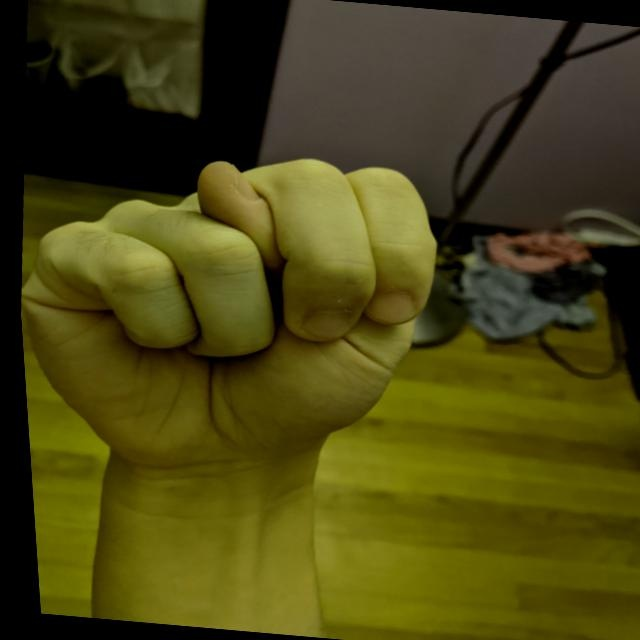N: (7, 127, 467, 493)
